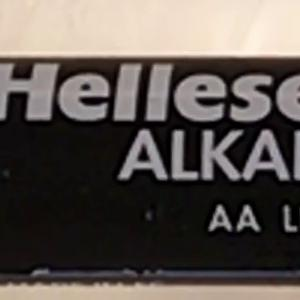keyword: (110, 121, 239, 189)
